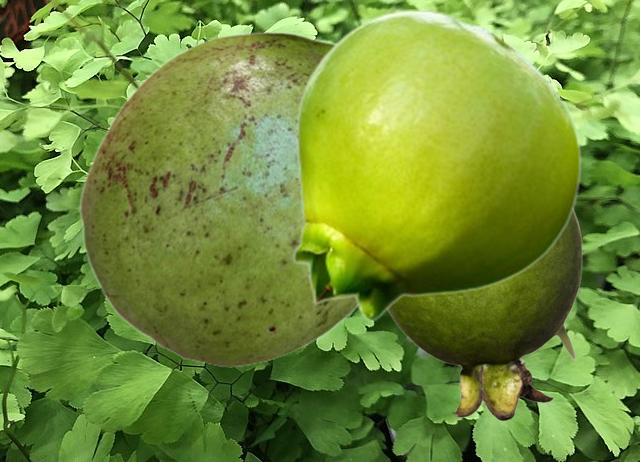guava: (78, 31, 356, 366), (292, 9, 581, 321), (387, 210, 581, 420)
